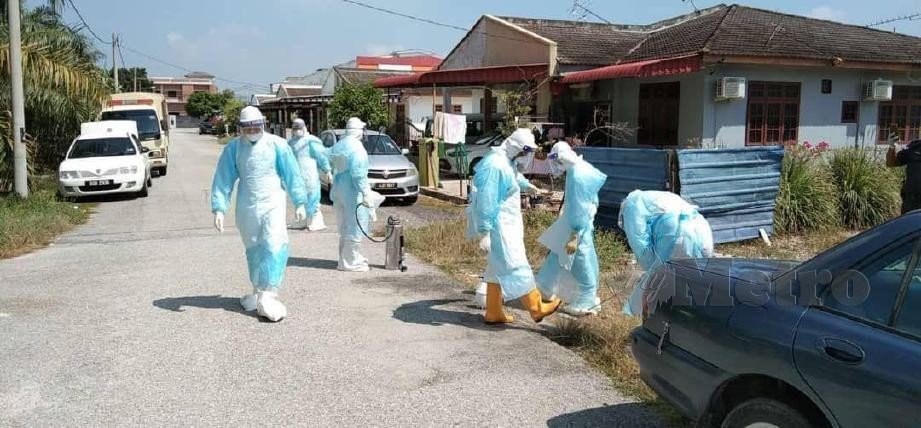Coverall: (209, 106, 309, 296), (464, 127, 544, 295), (615, 187, 718, 312), (543, 143, 607, 307), (328, 112, 373, 243), (288, 115, 331, 214)
Face_Shield: (235, 114, 268, 149), (288, 121, 308, 137)
Gloves: (213, 211, 229, 232), (479, 232, 494, 252), (293, 203, 306, 223)
